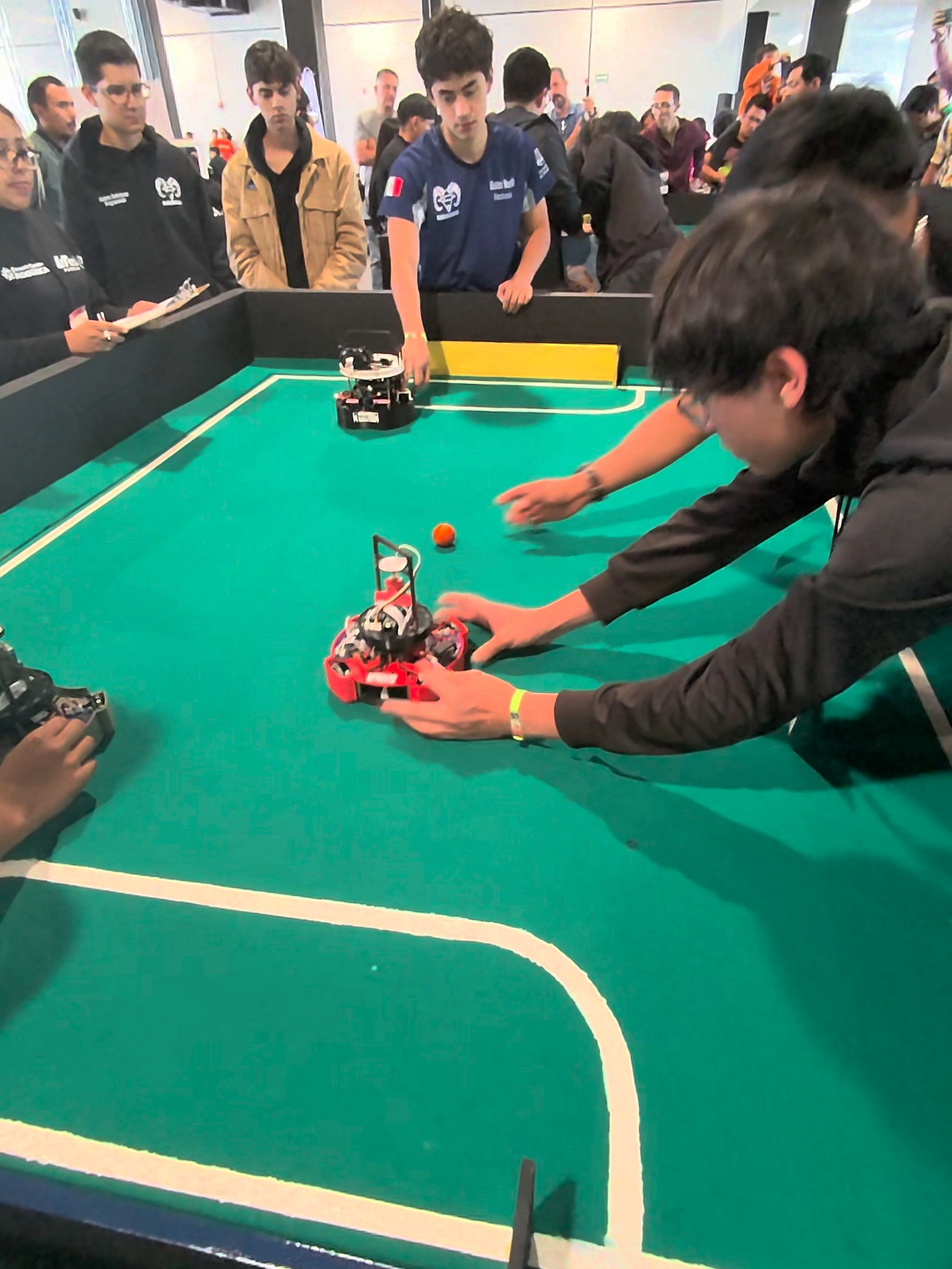Robot: (302, 532, 476, 731), (0, 590, 130, 789), (329, 331, 422, 442)
pelota: (416, 503, 472, 572)
